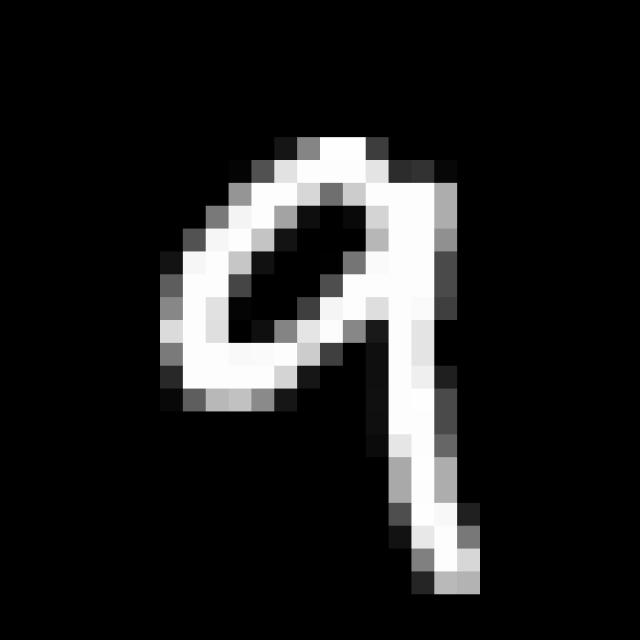nine -9-: (148, 130, 500, 620)
